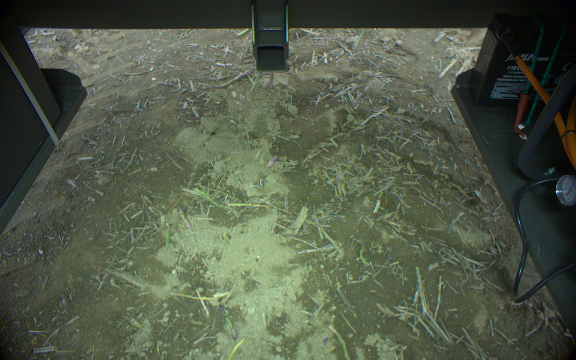aspa: (328, 323, 351, 360), (191, 186, 227, 209), (216, 305, 238, 339), (226, 200, 274, 210), (175, 203, 192, 230), (320, 336, 331, 355)
